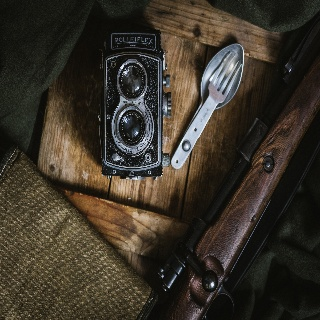rifle: (137, 25, 320, 320)
